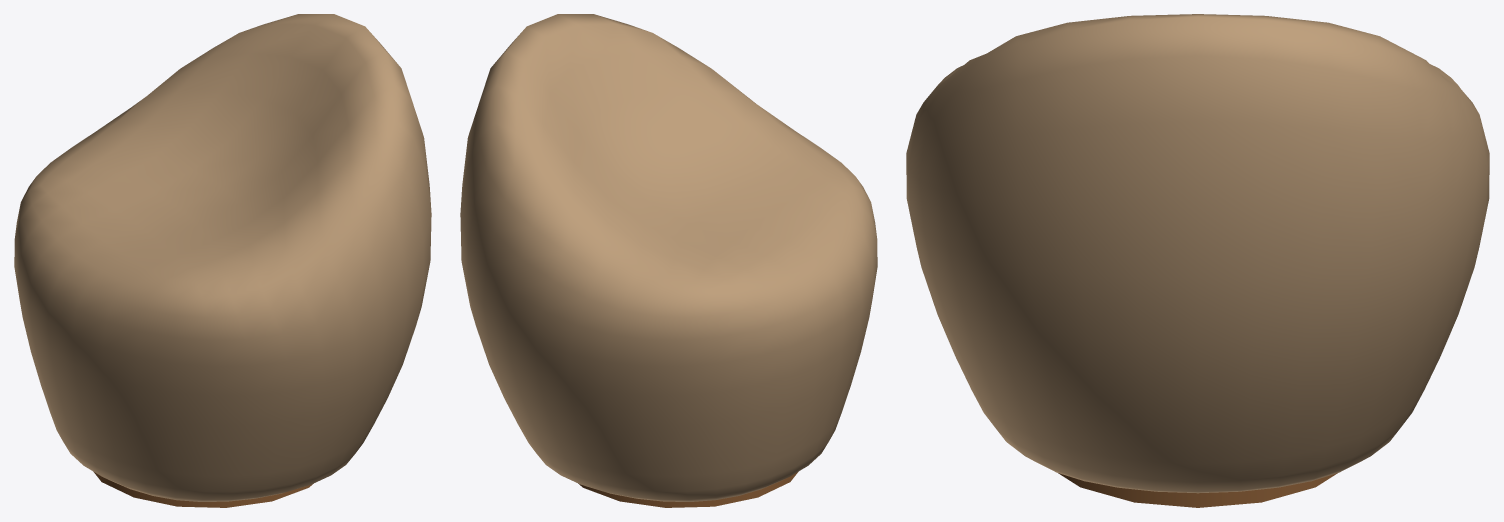
The model's file is beanbag_03_beige.fbx.
3 renders of one model, left to right at view 1: azimuth 30°, elevation 25°; view 2: azimuth 150°, elevation 25°; view 3: azimuth 270°, elevation 25°, orthographic. The views are drawn at different scales.
Visible parts, largest first — view 1: beanbag_03_beige; view 2: beanbag_03_beige; view 3: beanbag_03_beige.
Part boxes in pixels (x1,y1,x2,y2): beanbag_03_beige: (14, 14, 431, 507); beanbag_03_beige: (460, 14, 877, 507); beanbag_03_beige: (906, 14, 1489, 507).
Size of the model in its own units: 80.92 by 86.21 by 87.42.
2 materials, 2 textured.
